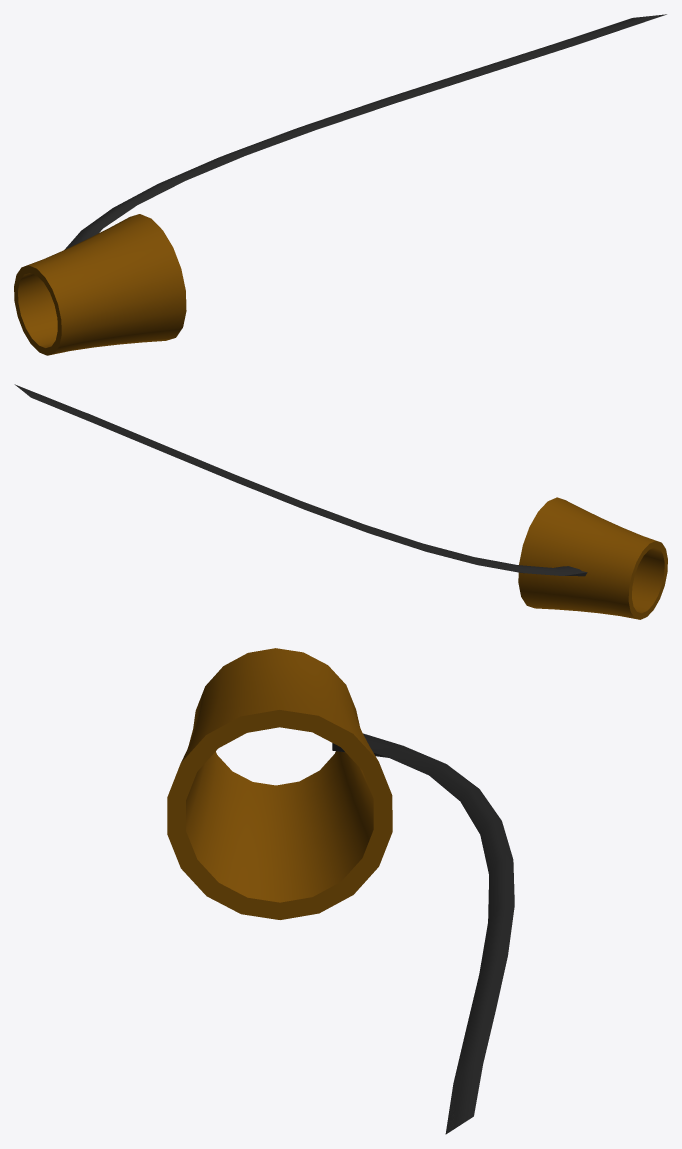
File: WristReaper.FBX
The picture shows the model from 3 angles, top to bottom: view 1: azimuth 30°, elevation 25°; view 2: azimuth 150°, elevation 25°; view 3: azimuth 270°, elevation 25°; orthographic projection. The views are drawn at different scales.
Visible parts, largest first — view 1: Object001; view 2: Object001; view 3: Object001.
Boxes of the visible parts, x1,y1,x2,y2 form: Object001: (14, 14, 666, 355); Object001: (14, 384, 667, 619); Object001: (167, 648, 514, 1134).
Bounding box in the file's own units: 18.7 × 3.96 × 4.75.
